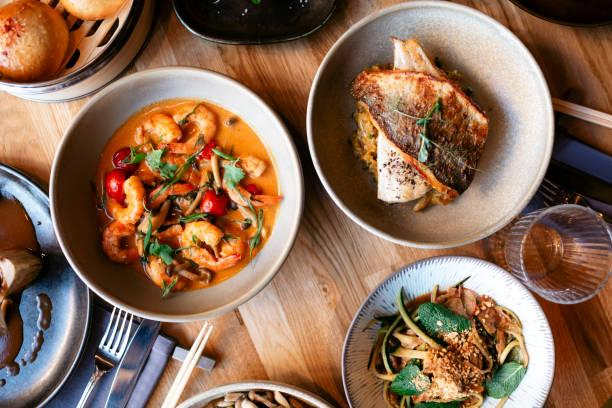Braised Crucian Carp: (51, 66, 301, 321), (308, 1, 551, 251), (339, 256, 555, 407)
